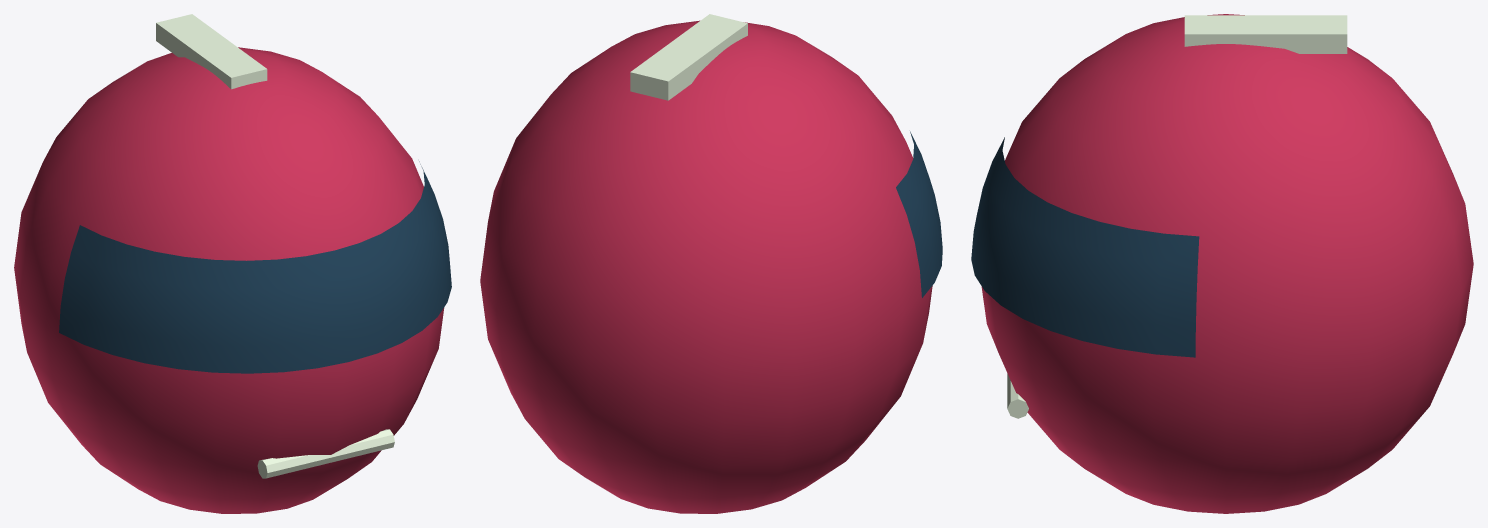
File: prism.glb
3 views of the same model, side by side, from view 1: azimuth 30°, elevation 25°; view 2: azimuth 150°, elevation 25°; view 3: azimuth 270°, elevation 25° (orthographic). The views are drawn at different scales.
Parts seen in each view (by area): view 1: Helmet; view 2: Helmet; view 3: Helmet.
Part boxes in pixels (bbox=[...]): Helmet: bbox=[14, 14, 451, 513]; Helmet: bbox=[480, 14, 942, 513]; Helmet: bbox=[971, 14, 1473, 513].
Bounding box in the file's own units: 0.2579 × 0.288 × 0.278.
